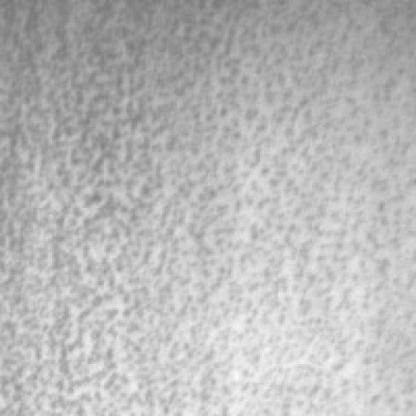pitted_surface: (0, 0, 414, 410)
